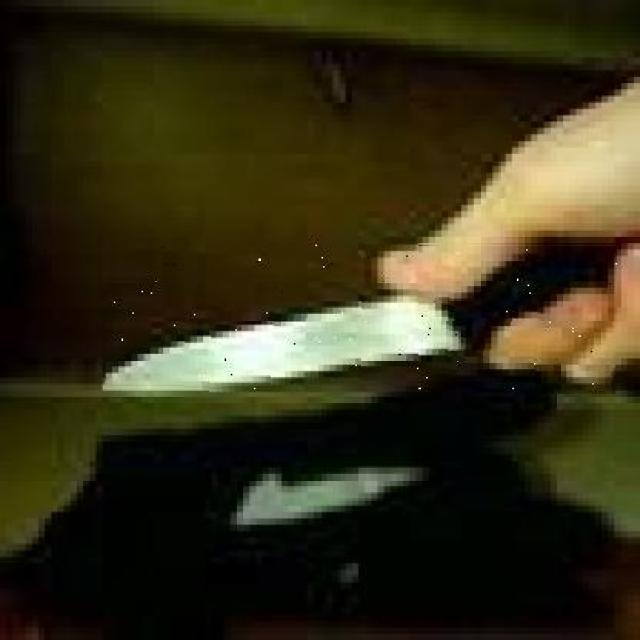knife: (106, 241, 617, 392)
